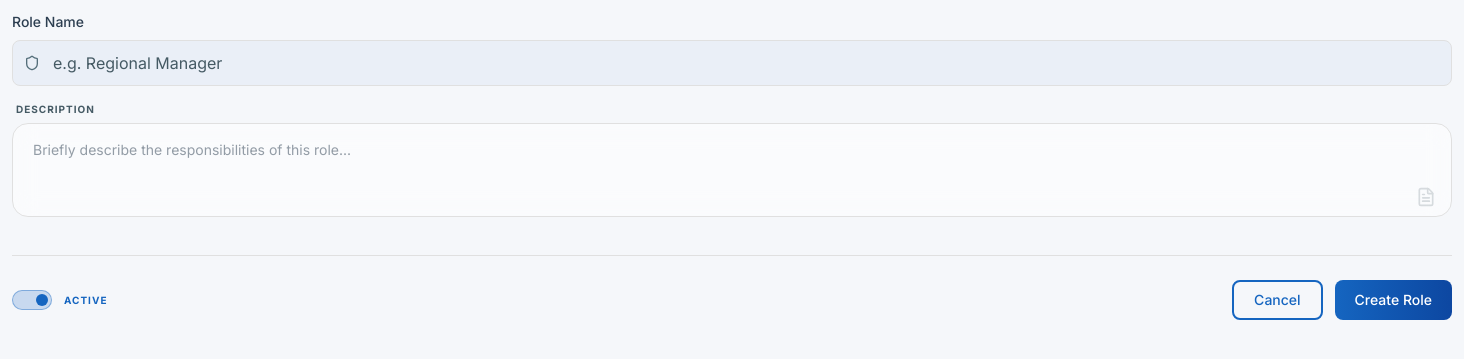
Test: RoleForm Component › shows validation error when name is empty
The width and height of the screenshot is (1464, 359).
Click the button "Create Role" at (1393, 300), box [1335,280,1452,320]
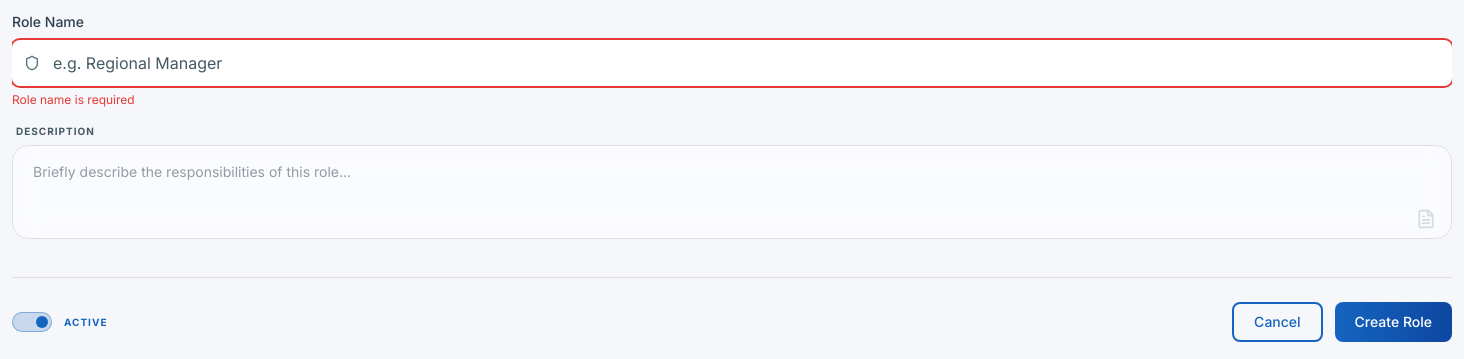
Now the text "Role name is required" is shown, box [12,92,135,107]
